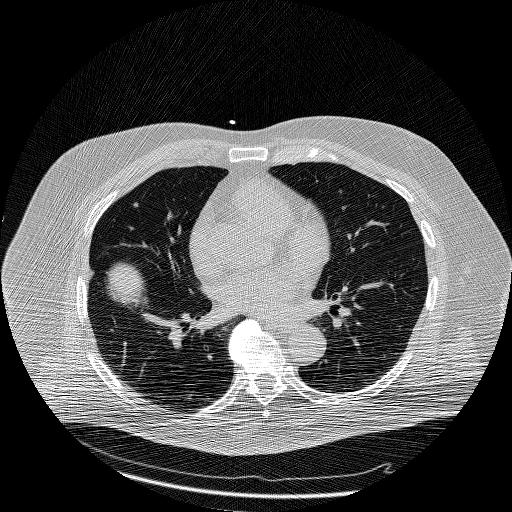nodule: (131, 200, 141, 210)
